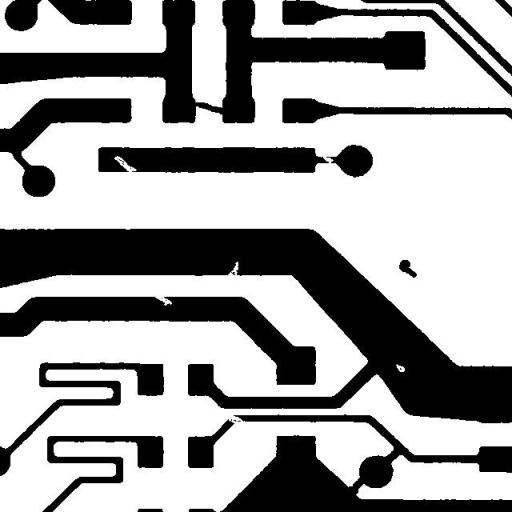copper: (391, 252, 424, 285)
mousebite: (106, 148, 144, 182), (146, 286, 180, 313), (220, 254, 246, 284)
open: (310, 145, 341, 172), (220, 408, 254, 432)
pin-hole: (388, 356, 412, 379)
short: (186, 94, 233, 122), (340, 469, 375, 502)
